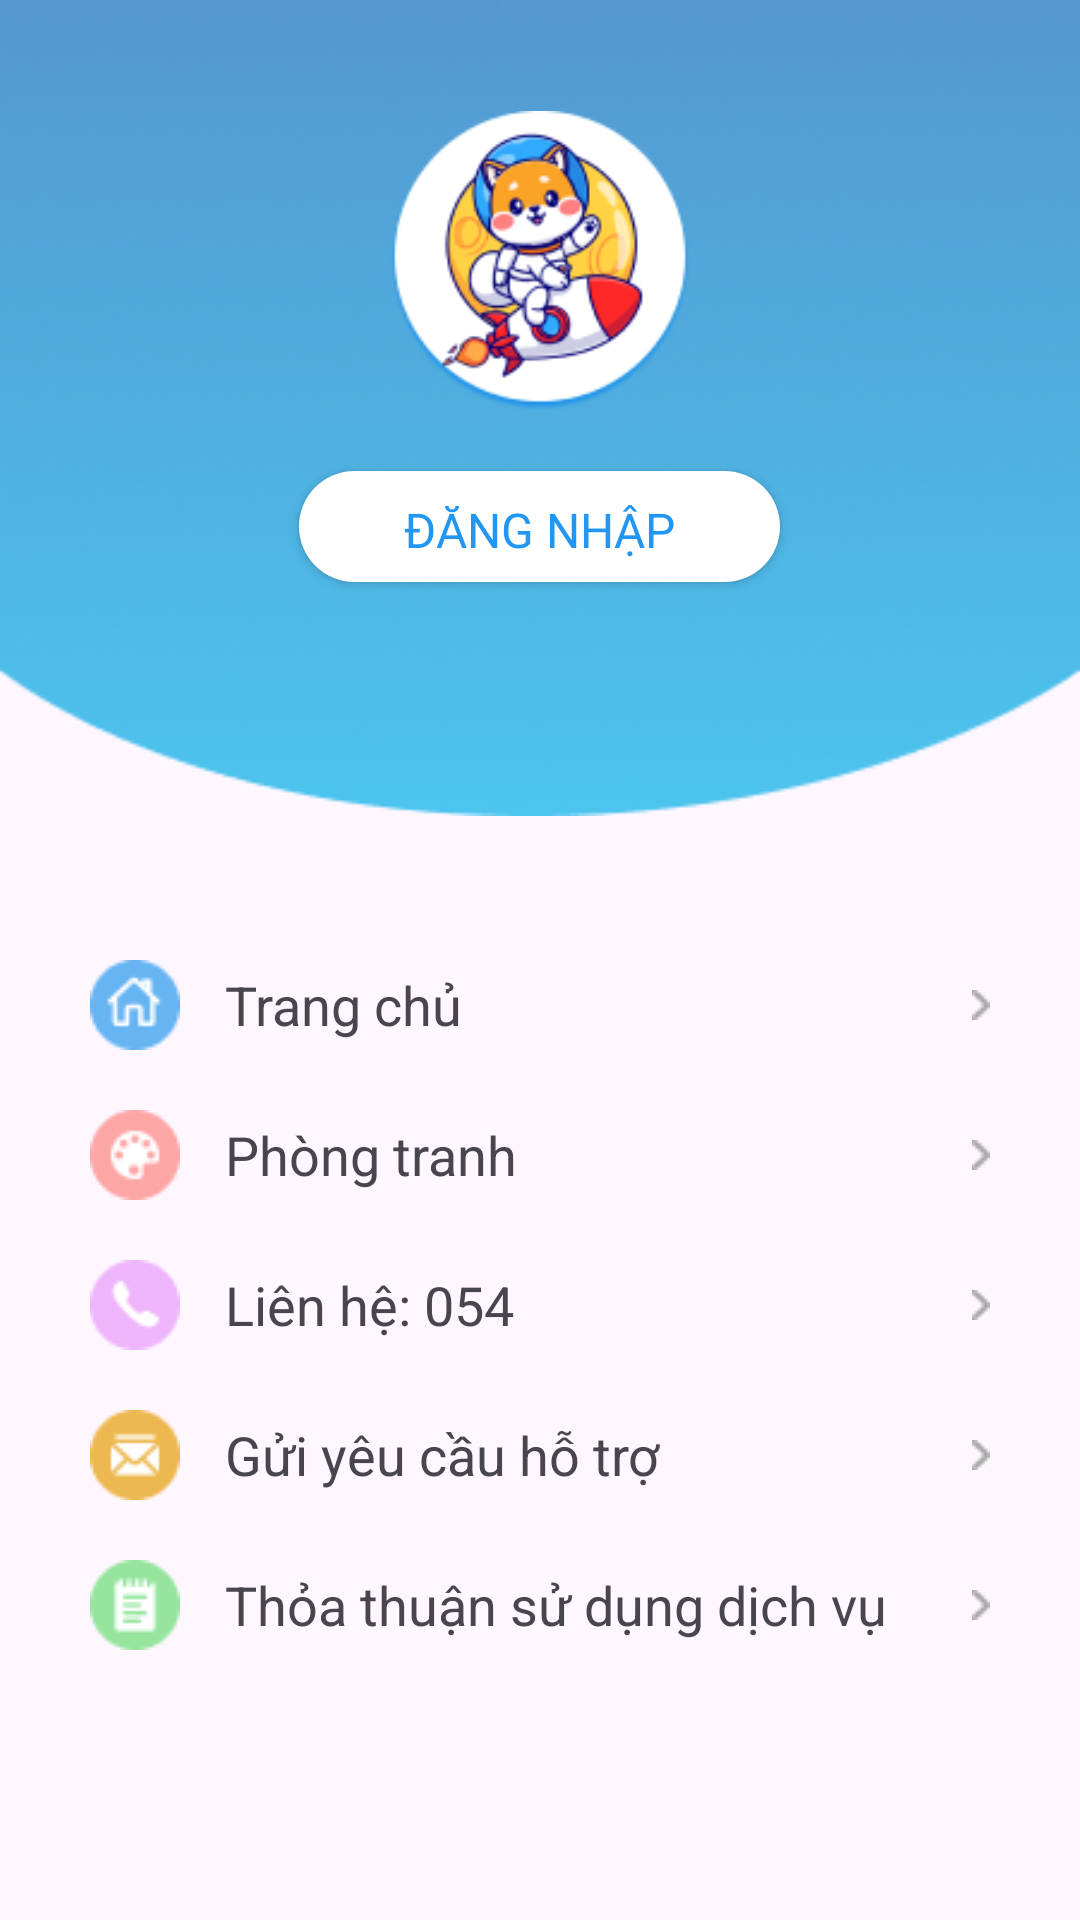

Icons on this 1080 × 1920 Android screen, each with the point to tap as point (x, y):
avt: point (540, 259)
